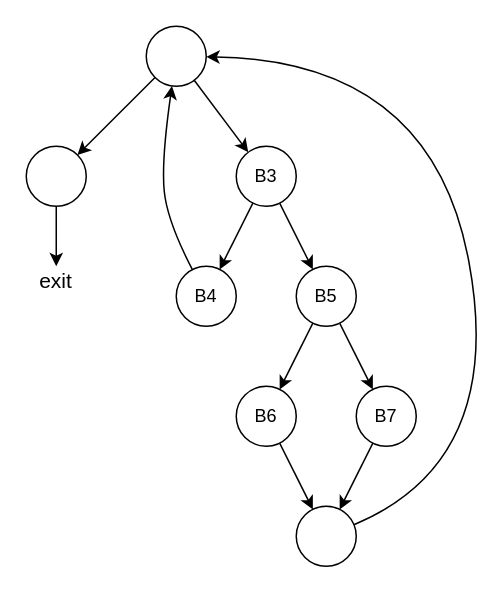
Image size: 503x593. Some labels were removed from this diagram. The shapes that lost their labels are listed below. From the top down, each one's box as (x1, y1, x2, y2) in pixels, then its label:
(145, 25, 206, 86): B1
(25, 145, 86, 206): B2
(295, 505, 356, 566): B8
